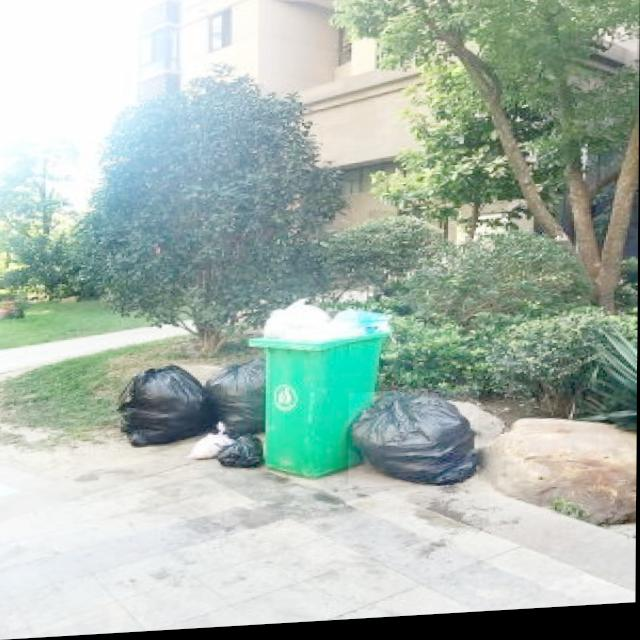garbage: (114, 360, 265, 476), (349, 392, 480, 492)
overflow: (245, 297, 388, 484)
